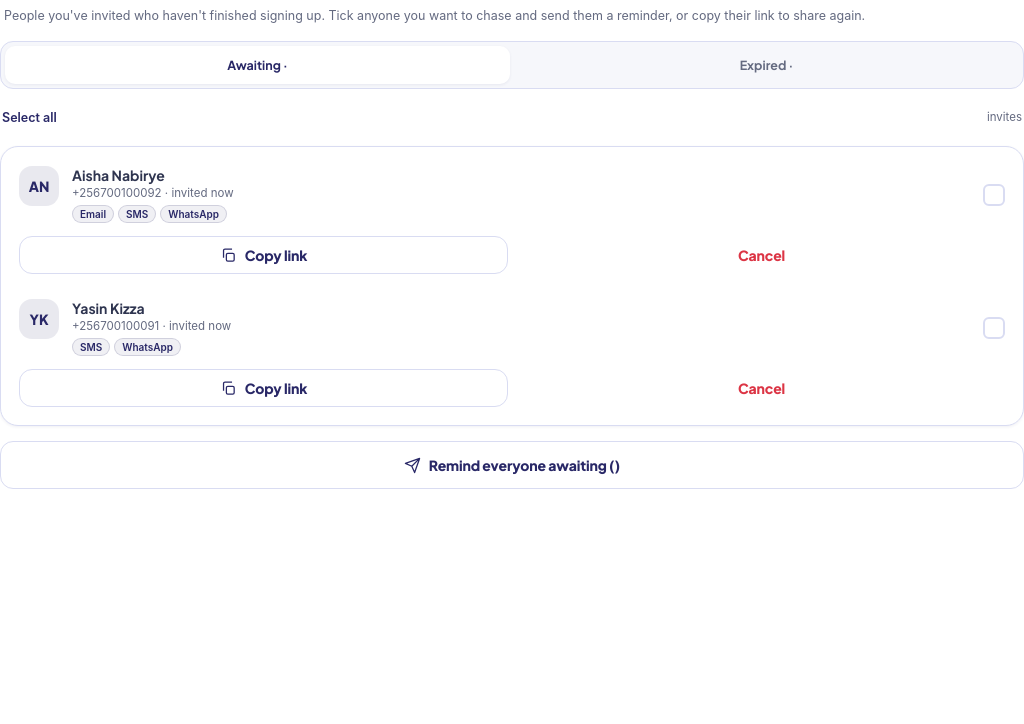
<PendingKycMobile /> › keeps the composer hidden until someone is selected
Expected: the element "send via" is not shown
Click the checkbox labelled "Aisha Nabirye" at (39, 186), box top-left (19, 153), bottom-right (1005, 236)
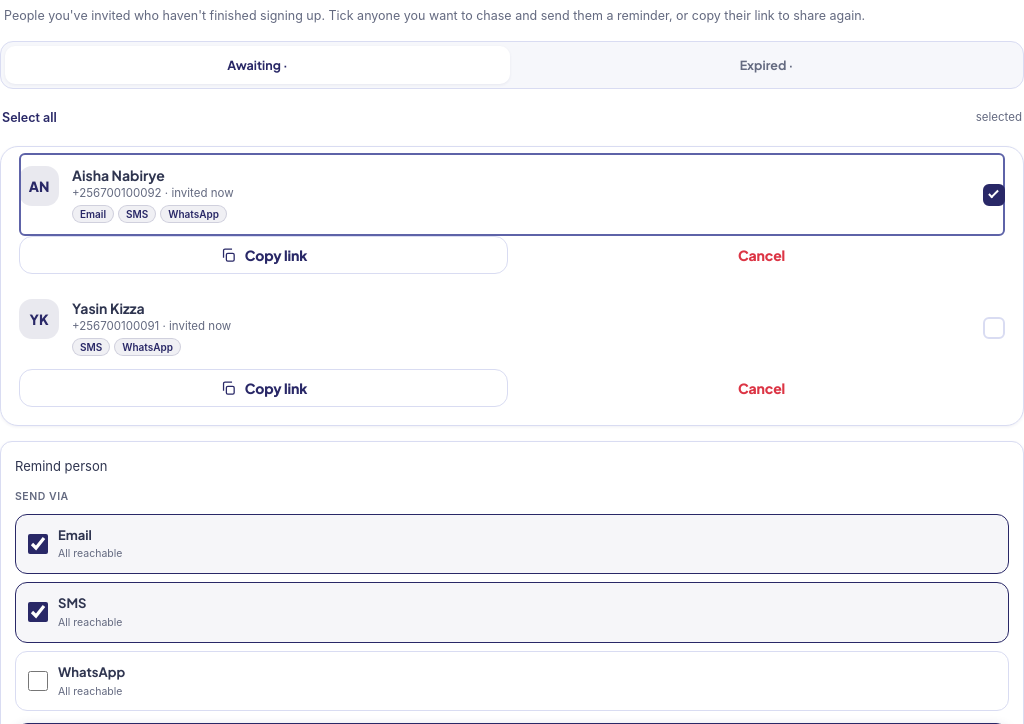
Expected: the checkbox named "Send via Email" is shown, top-left (28, 534), bottom-right (48, 554)
Expected: the checkbox named "Send via SMS" is shown, top-left (28, 602), bottom-right (48, 622)
Expected: the checkbox named "Send via WhatsApp" is shown, top-left (28, 671), bottom-right (48, 691)
